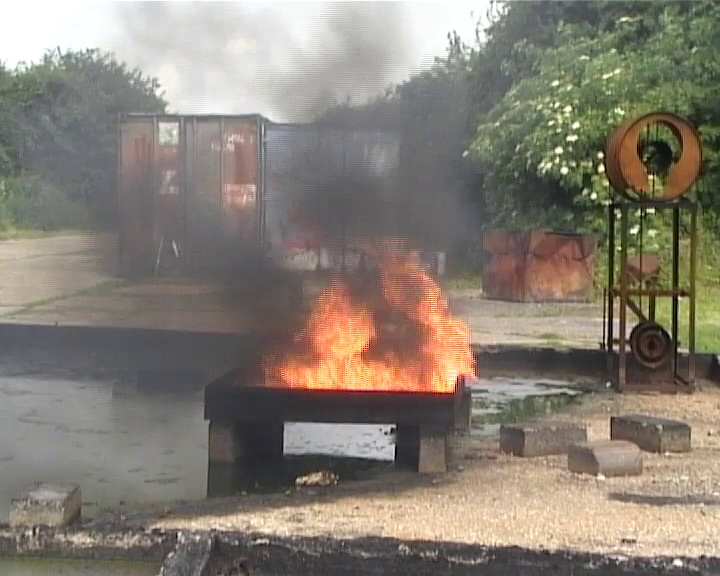fire: (278, 253, 473, 390)
